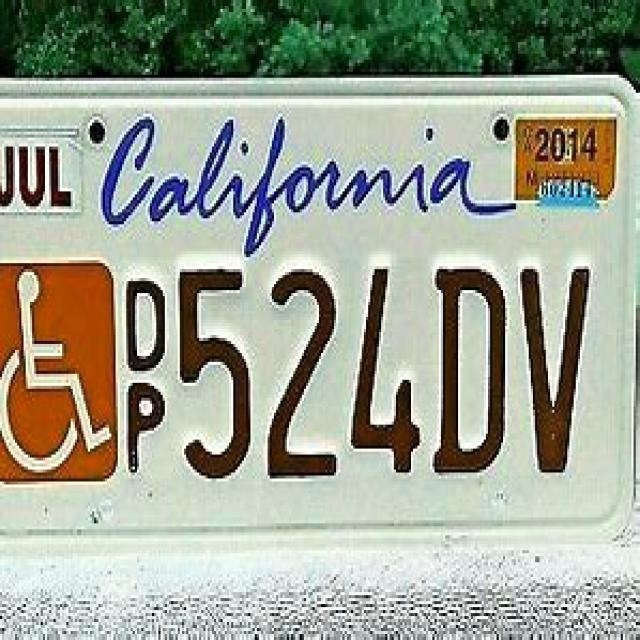ISA: (0, 269, 111, 472)
